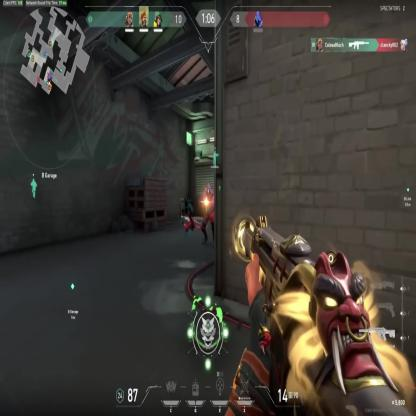enemy: (200, 183, 216, 249)
enemy_head: (205, 184, 211, 196)
